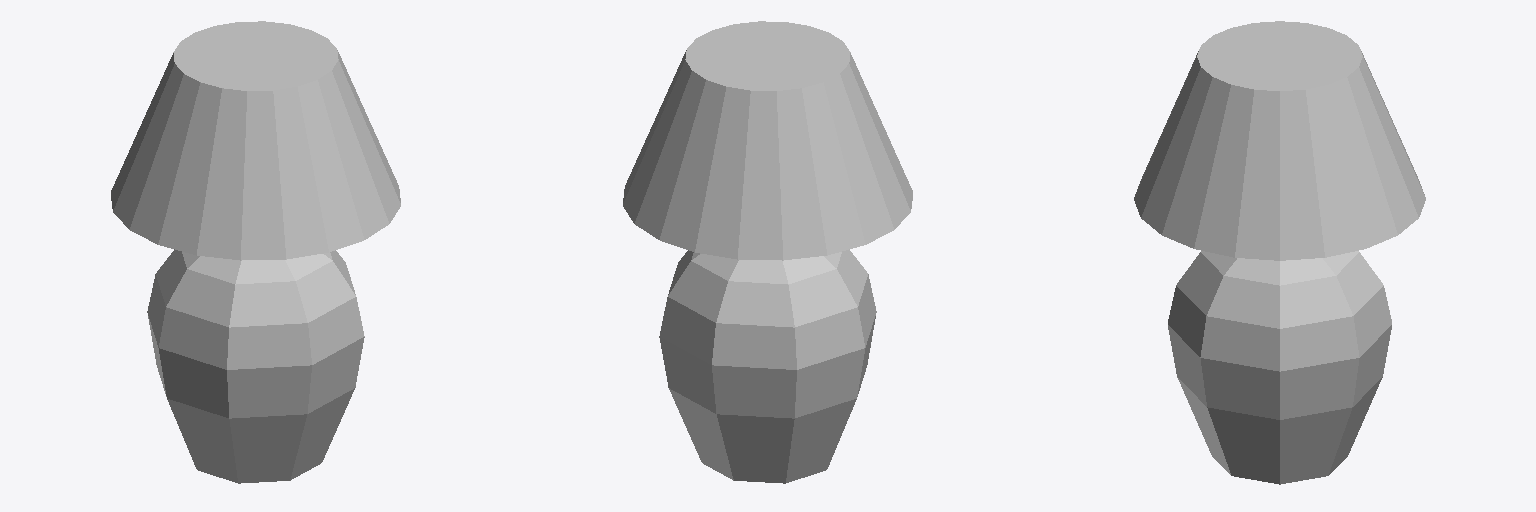
The model's file is lampTexture.obj.
3 views of the same model, side by side, from view 1: azimuth 30°, elevation 25°; view 2: azimuth 150°, elevation 25°; view 3: azimuth 270°, elevation 25° (orthographic).
Visible parts, largest first — view 1: lampBody lampShade, lampBody; view 2: lampBody lampShade, lampBody; view 3: lampBody lampShade, lampBody.
Boxes of the visible parts, <box> form: lampBody lampShade: <box>111,21,400,260</box>; lampBody: <box>147,249,364,483</box>; lampBody lampShade: <box>623,21,912,260</box>; lampBody: <box>659,249,876,483</box>; lampBody lampShade: <box>1134,21,1425,260</box>; lampBody: <box>1168,251,1391,484</box>.
Size of the model in its own units: 2.6 by 3.92 by 2.6.